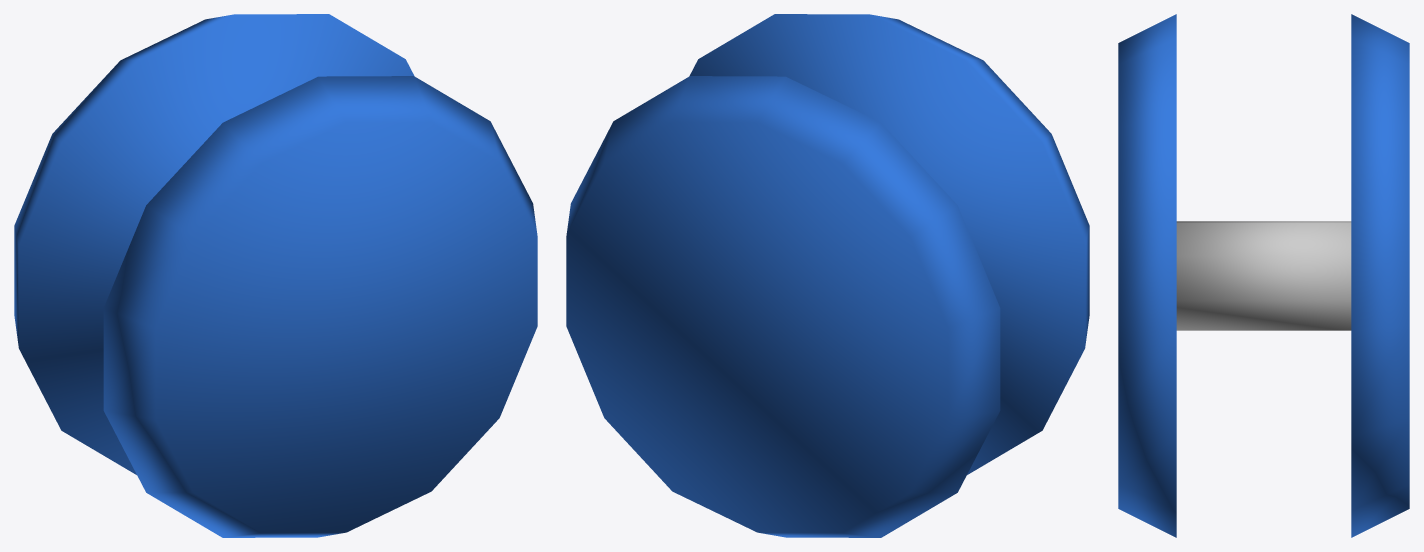
The model's file is rally_head.glb.
3 renders of one model, left to right at view 1: azimuth 30°, elevation 25°; view 2: azimuth 150°, elevation 25°; view 3: azimuth 270°, elevation 25°, orthographic. The views are drawn at different scales.
Parts seen in each view (by area): view 1: rally_head_v0; view 2: rally_head_v0; view 3: rally_head_v0.
Boxes of the visible parts, x1,y1,x2,y2 form: rally_head_v0: [14, 14, 537, 537]; rally_head_v0: [566, 14, 1089, 537]; rally_head_v0: [1118, 14, 1409, 537].
Bounding box in the file's own units: 0.1755 × 0.18 × 0.1.
